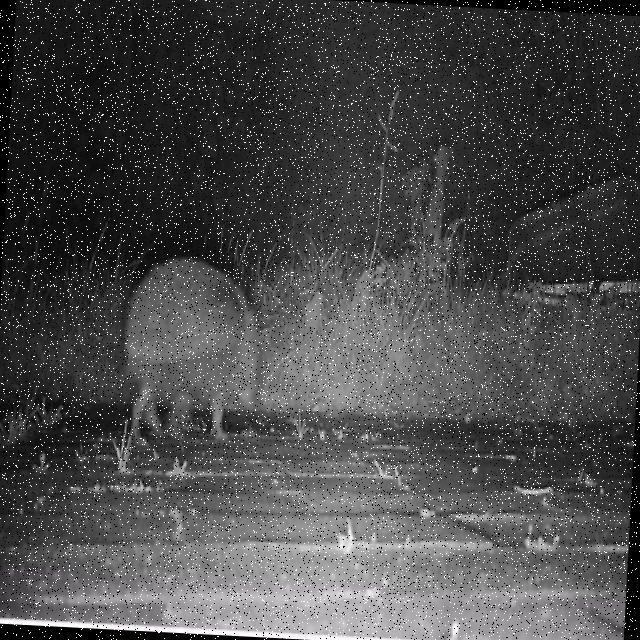Hedgehog: (114, 245, 264, 452)
